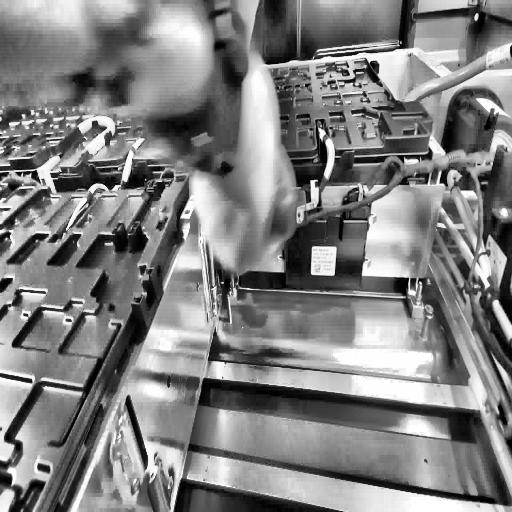high_volt_cable: (394, 42, 512, 106), (66, 104, 116, 166)
low_volt_cable: (248, 128, 512, 374)
